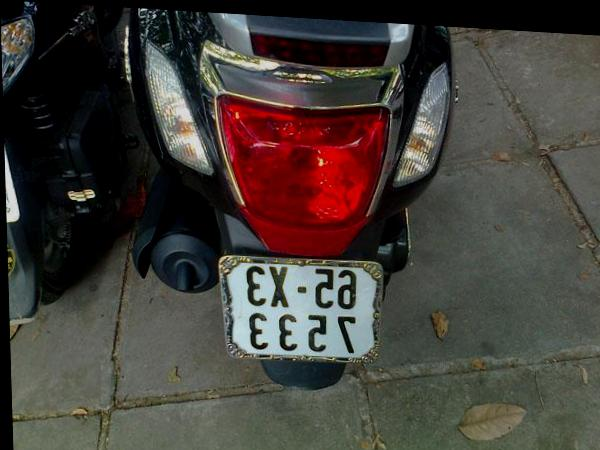License_Plate: (225, 254, 380, 369)
